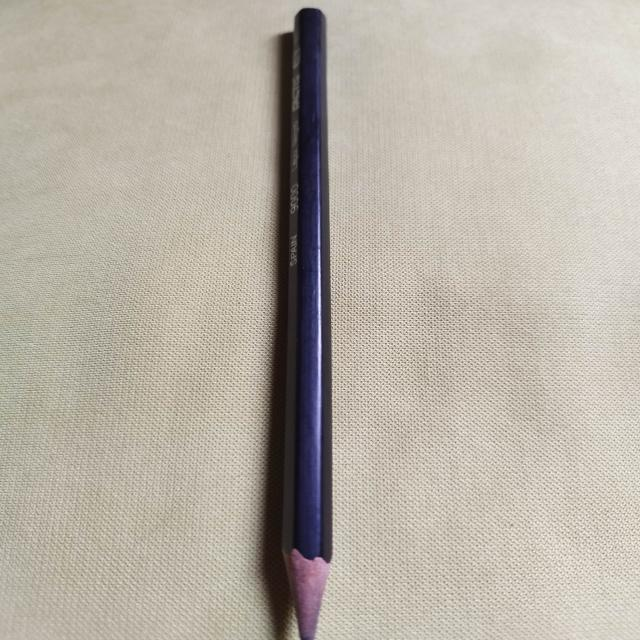pencil: (284, 7, 330, 639)
